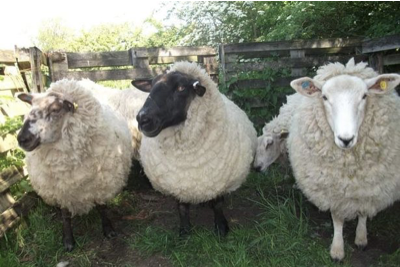koyun: (287, 64, 397, 264), (16, 76, 122, 252), (135, 68, 230, 239), (248, 131, 278, 173)
